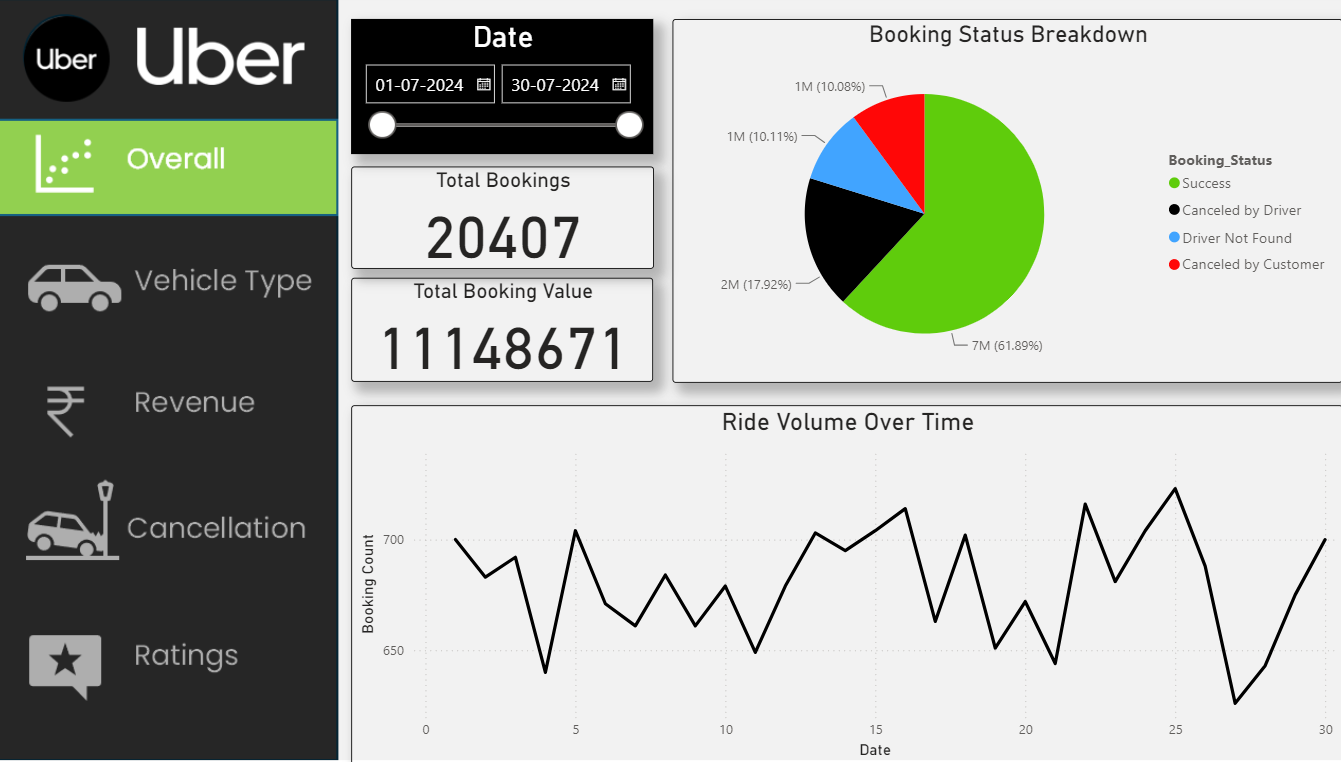

What the dashboard file says about the page in this screenshot:
{"tool":"powerbi","page":{"name":"Overall","canvas":[1280,720],"ordinal":0},"visuals":[{"type":"image","box":[0,0,1280,719],"z":0},{"type":"actionButton","box":[12.8,227.1,317.9,97.9],"z":1000},{"type":"actionButton","box":[12.8,339.2,317.9,97.9],"z":2000},{"type":"actionButton","box":[12.8,452.7,317.9,97.9],"z":3000},{"type":"actionButton","box":[12.8,569,317.9,97.9],"z":4000},{"type":"lineChart","title":"Ride Volume Over Time","fields":{"Y":["CountNonNull(July.Booking_ID)"],"Category":["July.Date.Variation.Date Hierarchy.Day"]},"box":[340.3,382.6,922.8,335.2],"z":5000},{"type":"pieChart","title":"Booking Status Breakdown","fields":{"Category":["July.Booking_Status"],"Y":["Sum(July.Booking_Value)"]},"box":[640,23.5,623.4,338],"z":6000},{"type":"slicer","title":"Date","fields":{"Values":["July.Date"]},"box":[340.3,23.7,281.1,125.3],"z":7000},{"type":"card","title":"Total Bookings","fields":{"Values":["Count(July.Booking_ID)"]},"box":[340.8,160.7,281.2,95.6],"z":8000},{"type":"card","title":"Total Booking Value","fields":{"Values":["Sum(July.Booking_Value)"]},"box":[340.3,264.1,281.1,96.5],"z":9000}]}

Visuals, with their boxes in screenshot pixels (x1, y1, x2, y2), scaled from the page's 1280x720 canvas onto the 1341x762 screenshot:
image: detection(0, 0, 1340, 761)
actionButton: detection(13, 240, 346, 344)
actionButton: detection(13, 359, 346, 463)
actionButton: detection(13, 479, 346, 583)
actionButton: detection(13, 602, 346, 706)
"Ride Volume Over Time" lineChart: detection(357, 405, 1323, 760)
"Booking Status Breakdown" pieChart: detection(670, 25, 1324, 383)
"Date" slicer: detection(357, 25, 651, 158)
"Total Bookings" card: detection(357, 170, 652, 271)
"Total Booking Value" card: detection(357, 280, 651, 382)
